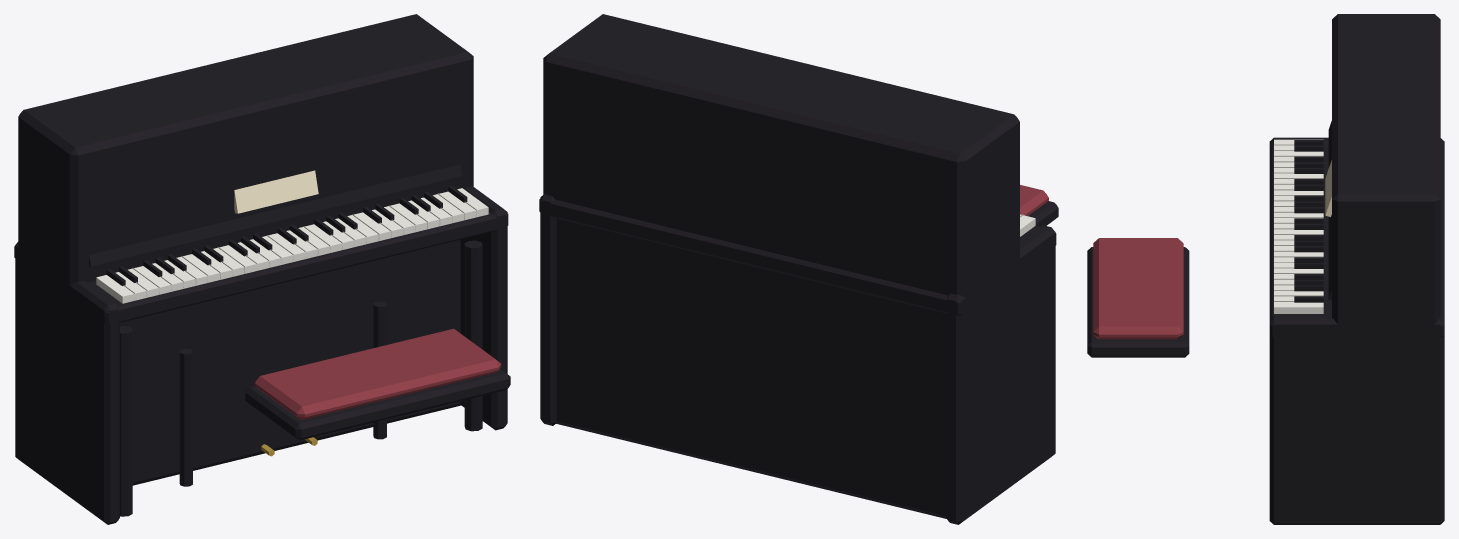
Rendered from home_piano_v01.glb.
The picture shows the model from 3 angles, left to right: view 1: azimuth 30°, elevation 25°; view 2: azimuth 150°, elevation 25°; view 3: azimuth 270°, elevation 25°; orthographic projection. The views are drawn at different scales.
Visible parts, largest first — view 1: piano, piano_bench; view 2: piano, piano_bench; view 3: piano, piano_bench.
Part boxes in pixels (x1,y1,x2,y2): piano: (14, 14, 508, 524); piano_bench: (179, 301, 510, 486); piano: (539, 14, 1056, 524); piano_bench: (1020, 185, 1058, 226); piano: (1269, 14, 1444, 524); piano_bench: (1087, 238, 1189, 357).
Size of the model in its own units: 1.5 by 1.25 by 1.23.
